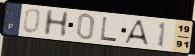0: (21, 8, 43, 36), (75, 13, 96, 42)
1: (157, 21, 167, 48)
A: (123, 19, 151, 47)
H: (42, 8, 71, 38)
L: (100, 16, 119, 43)
